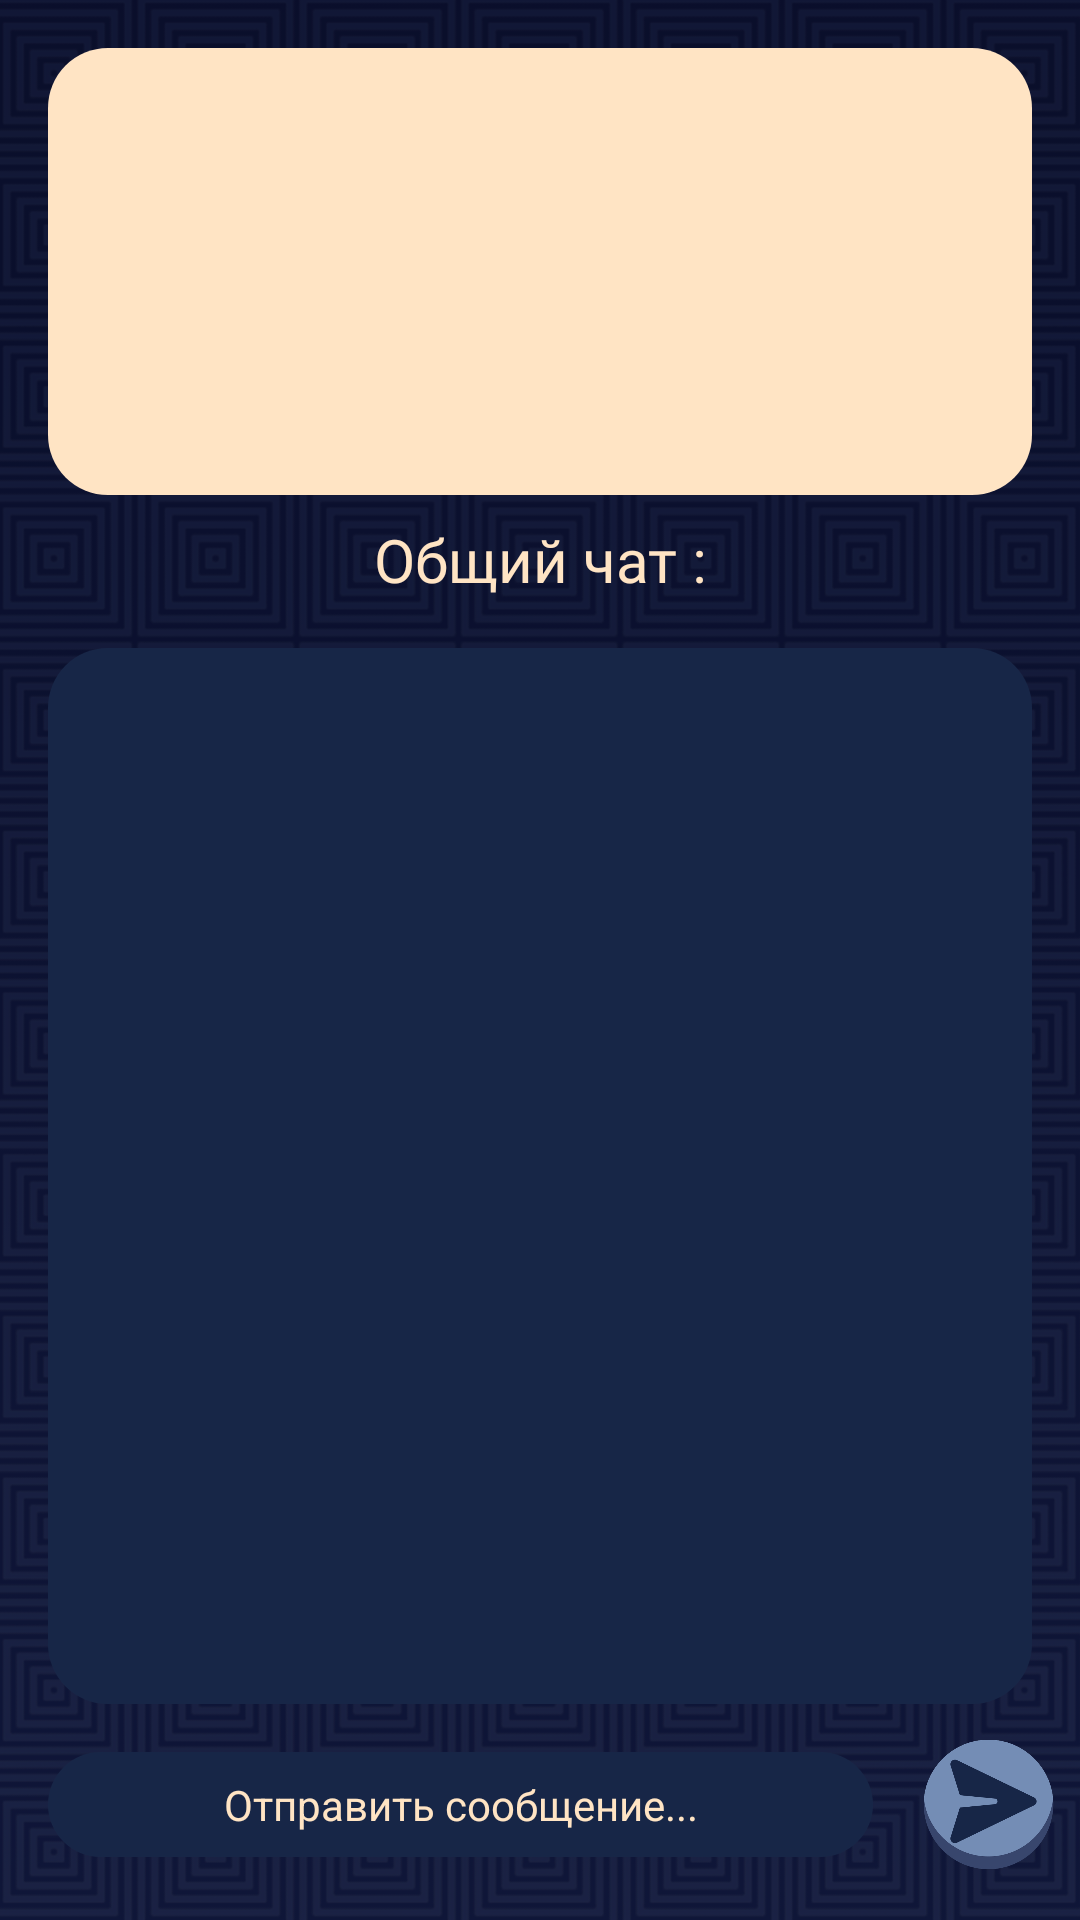

Icon click points for this 1080 × 1920 phone screenshot, format [x,y]:
send: [988,1804]
